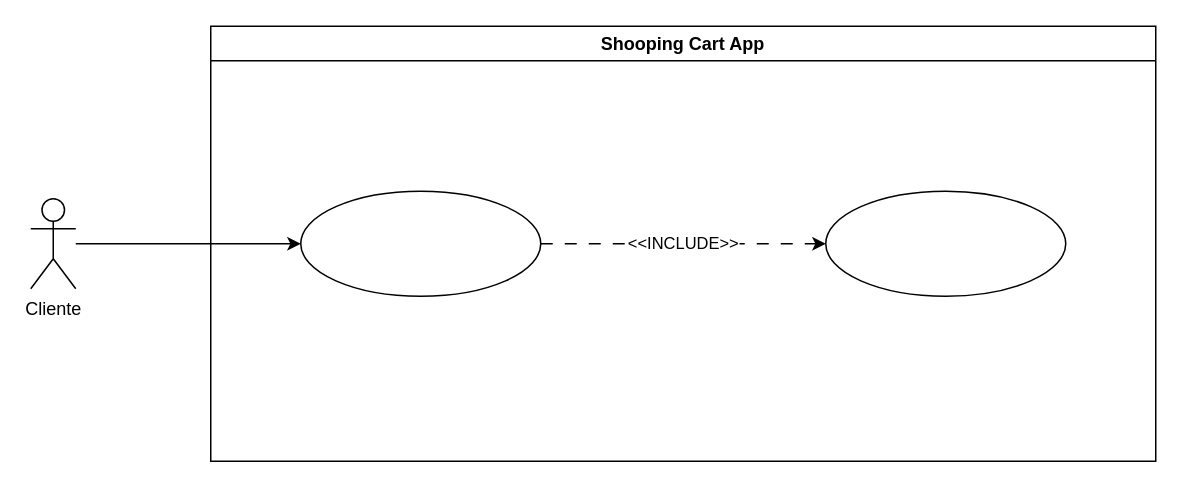
Some shapes in this 1182 by 488 pixel diagram are drawn without their labels. The shapes that lost their labels are listed below. From the top down, each one's centre as x and y in pixels, then its label:
At pixel 420 243: "ConfirmarCompraUseCase".
At pixel 945 243: "GestionarPago".
